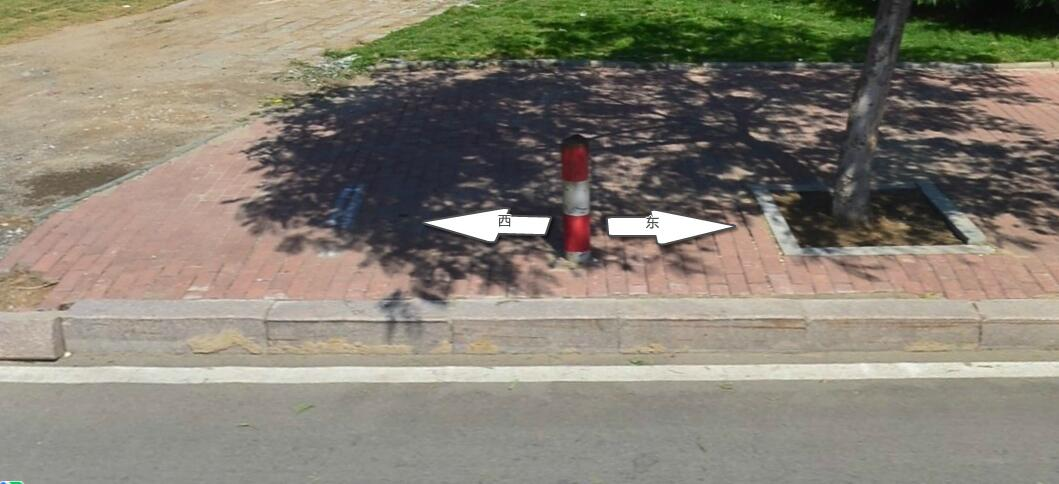side: (61, 299, 268, 352), (267, 300, 453, 355), (619, 301, 805, 356), (806, 298, 982, 355), (452, 300, 620, 353)
